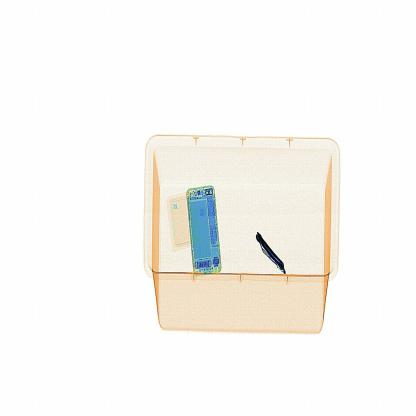knife: (254, 232, 286, 275)
